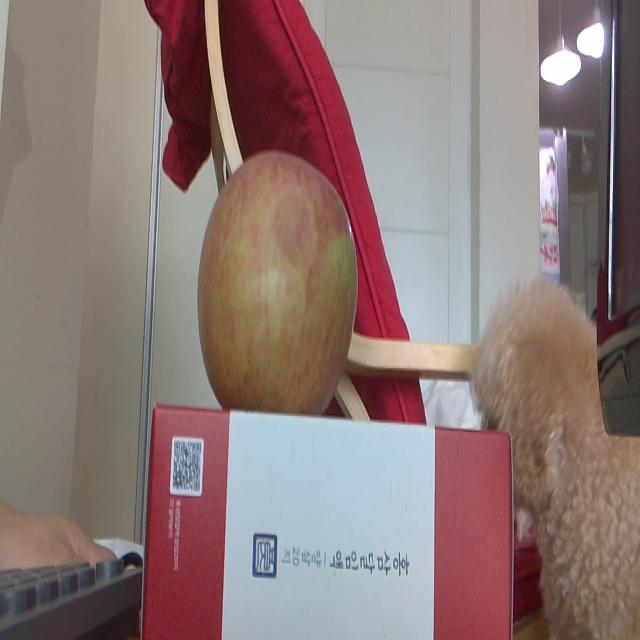apple: (198, 147, 358, 416)
